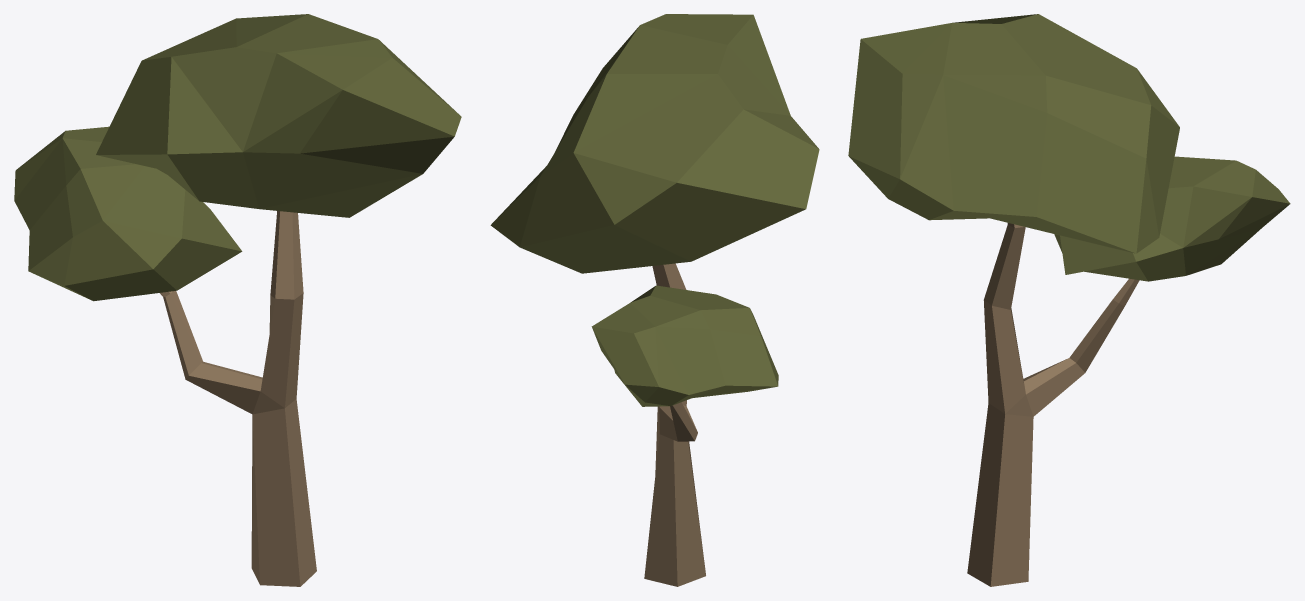
The model's file is sm_tree1.fbx.
3 views of the same model, side by side, from view 1: azimuth 30°, elevation 25°; view 2: azimuth 150°, elevation 25°; view 3: azimuth 270°, elevation 25° (orthographic). The views are drawn at different scales.
Parts seen in each view (by area): view 1: sm_tree1; view 2: sm_tree1; view 3: sm_tree1.
Boxes of the visible parts, x1=… form: sm_tree1: x1=14, y1=14, x2=461, y2=586; sm_tree1: x1=490, y1=14, x2=819, y2=586; sm_tree1: x1=848, y1=14, x2=1290, y2=586.
Size of the model in its own units: 283 by 473 by 354.
